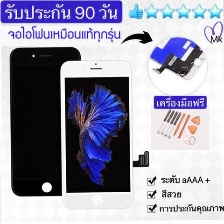phone: (7, 42, 85, 200), (58, 57, 135, 212)
